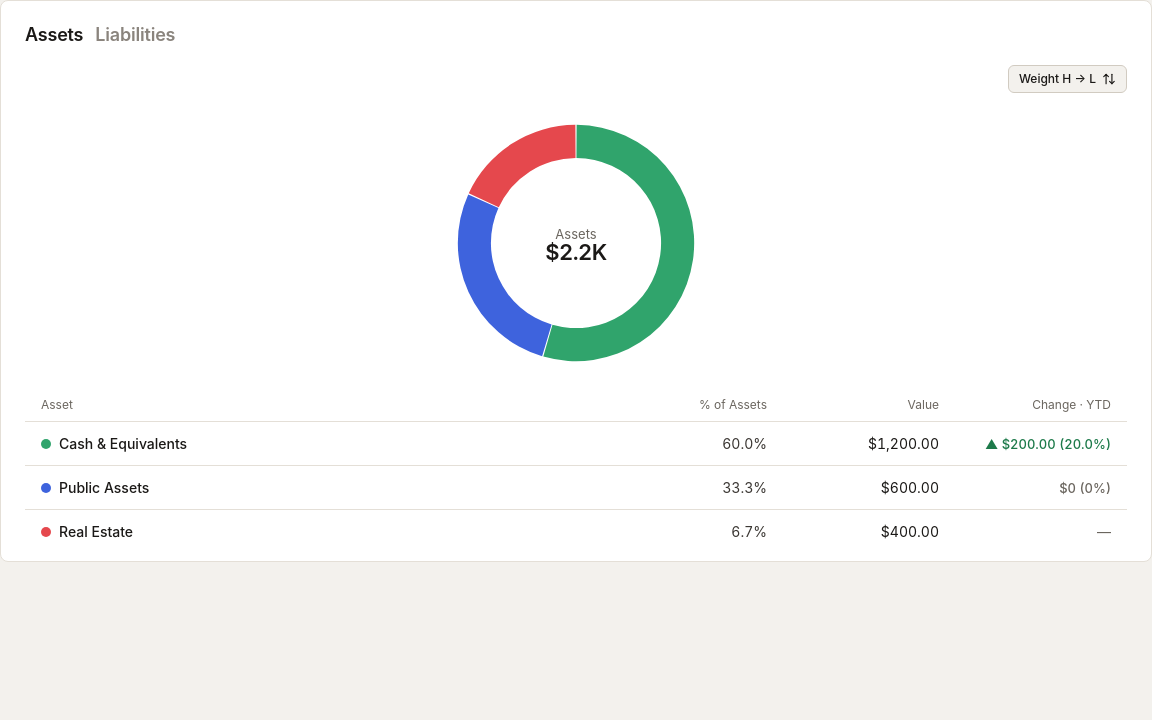
it: AllocationCard › toggles the sort order and reorders the donut slices
Click the button "Weight H → L" at (1067, 79), box top-left (1008, 65), bottom-right (1127, 93)
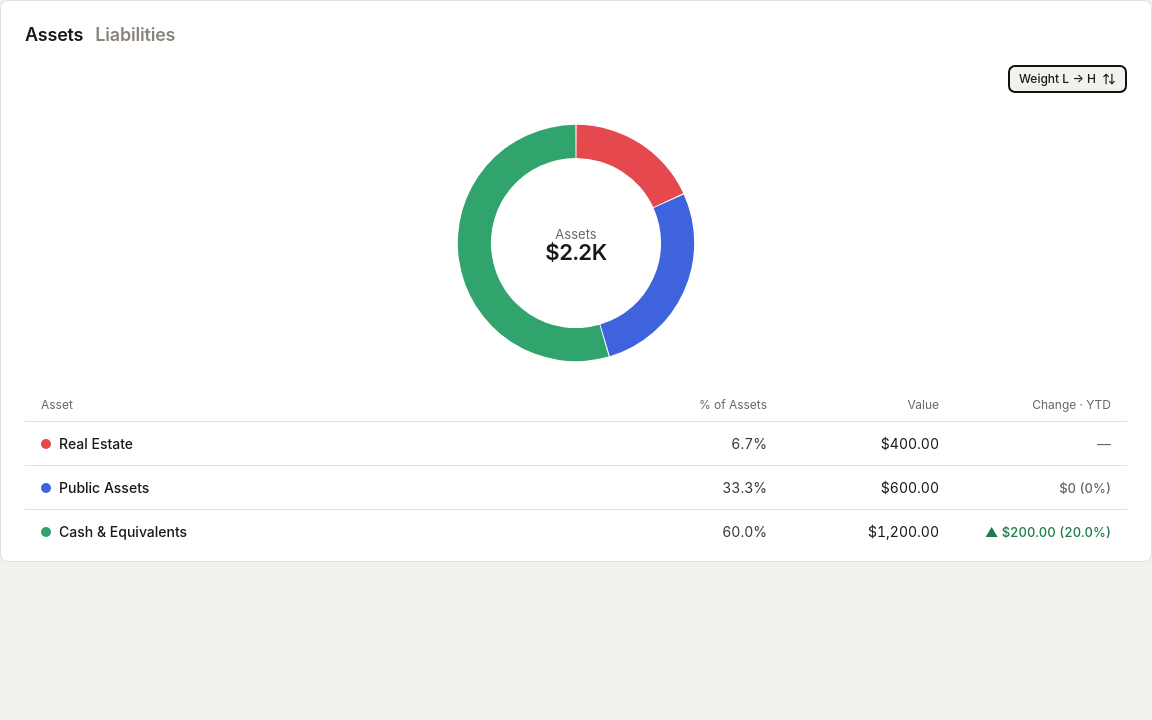
Expected: the button "Weight L → H" is shown, top-left (1008, 65), bottom-right (1127, 93)
